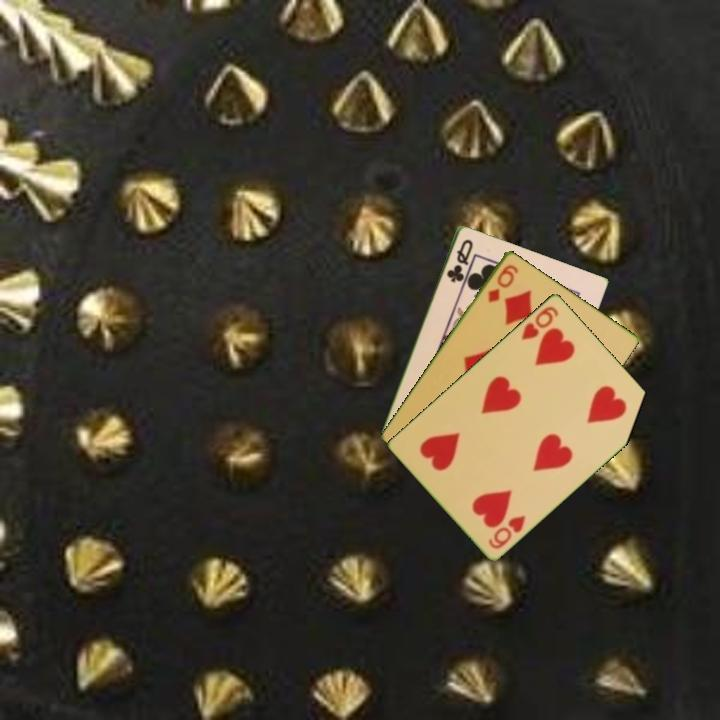6d: (484, 260, 521, 305)
6h: (517, 302, 561, 343), (485, 511, 528, 551)
Qc: (443, 235, 476, 286)
